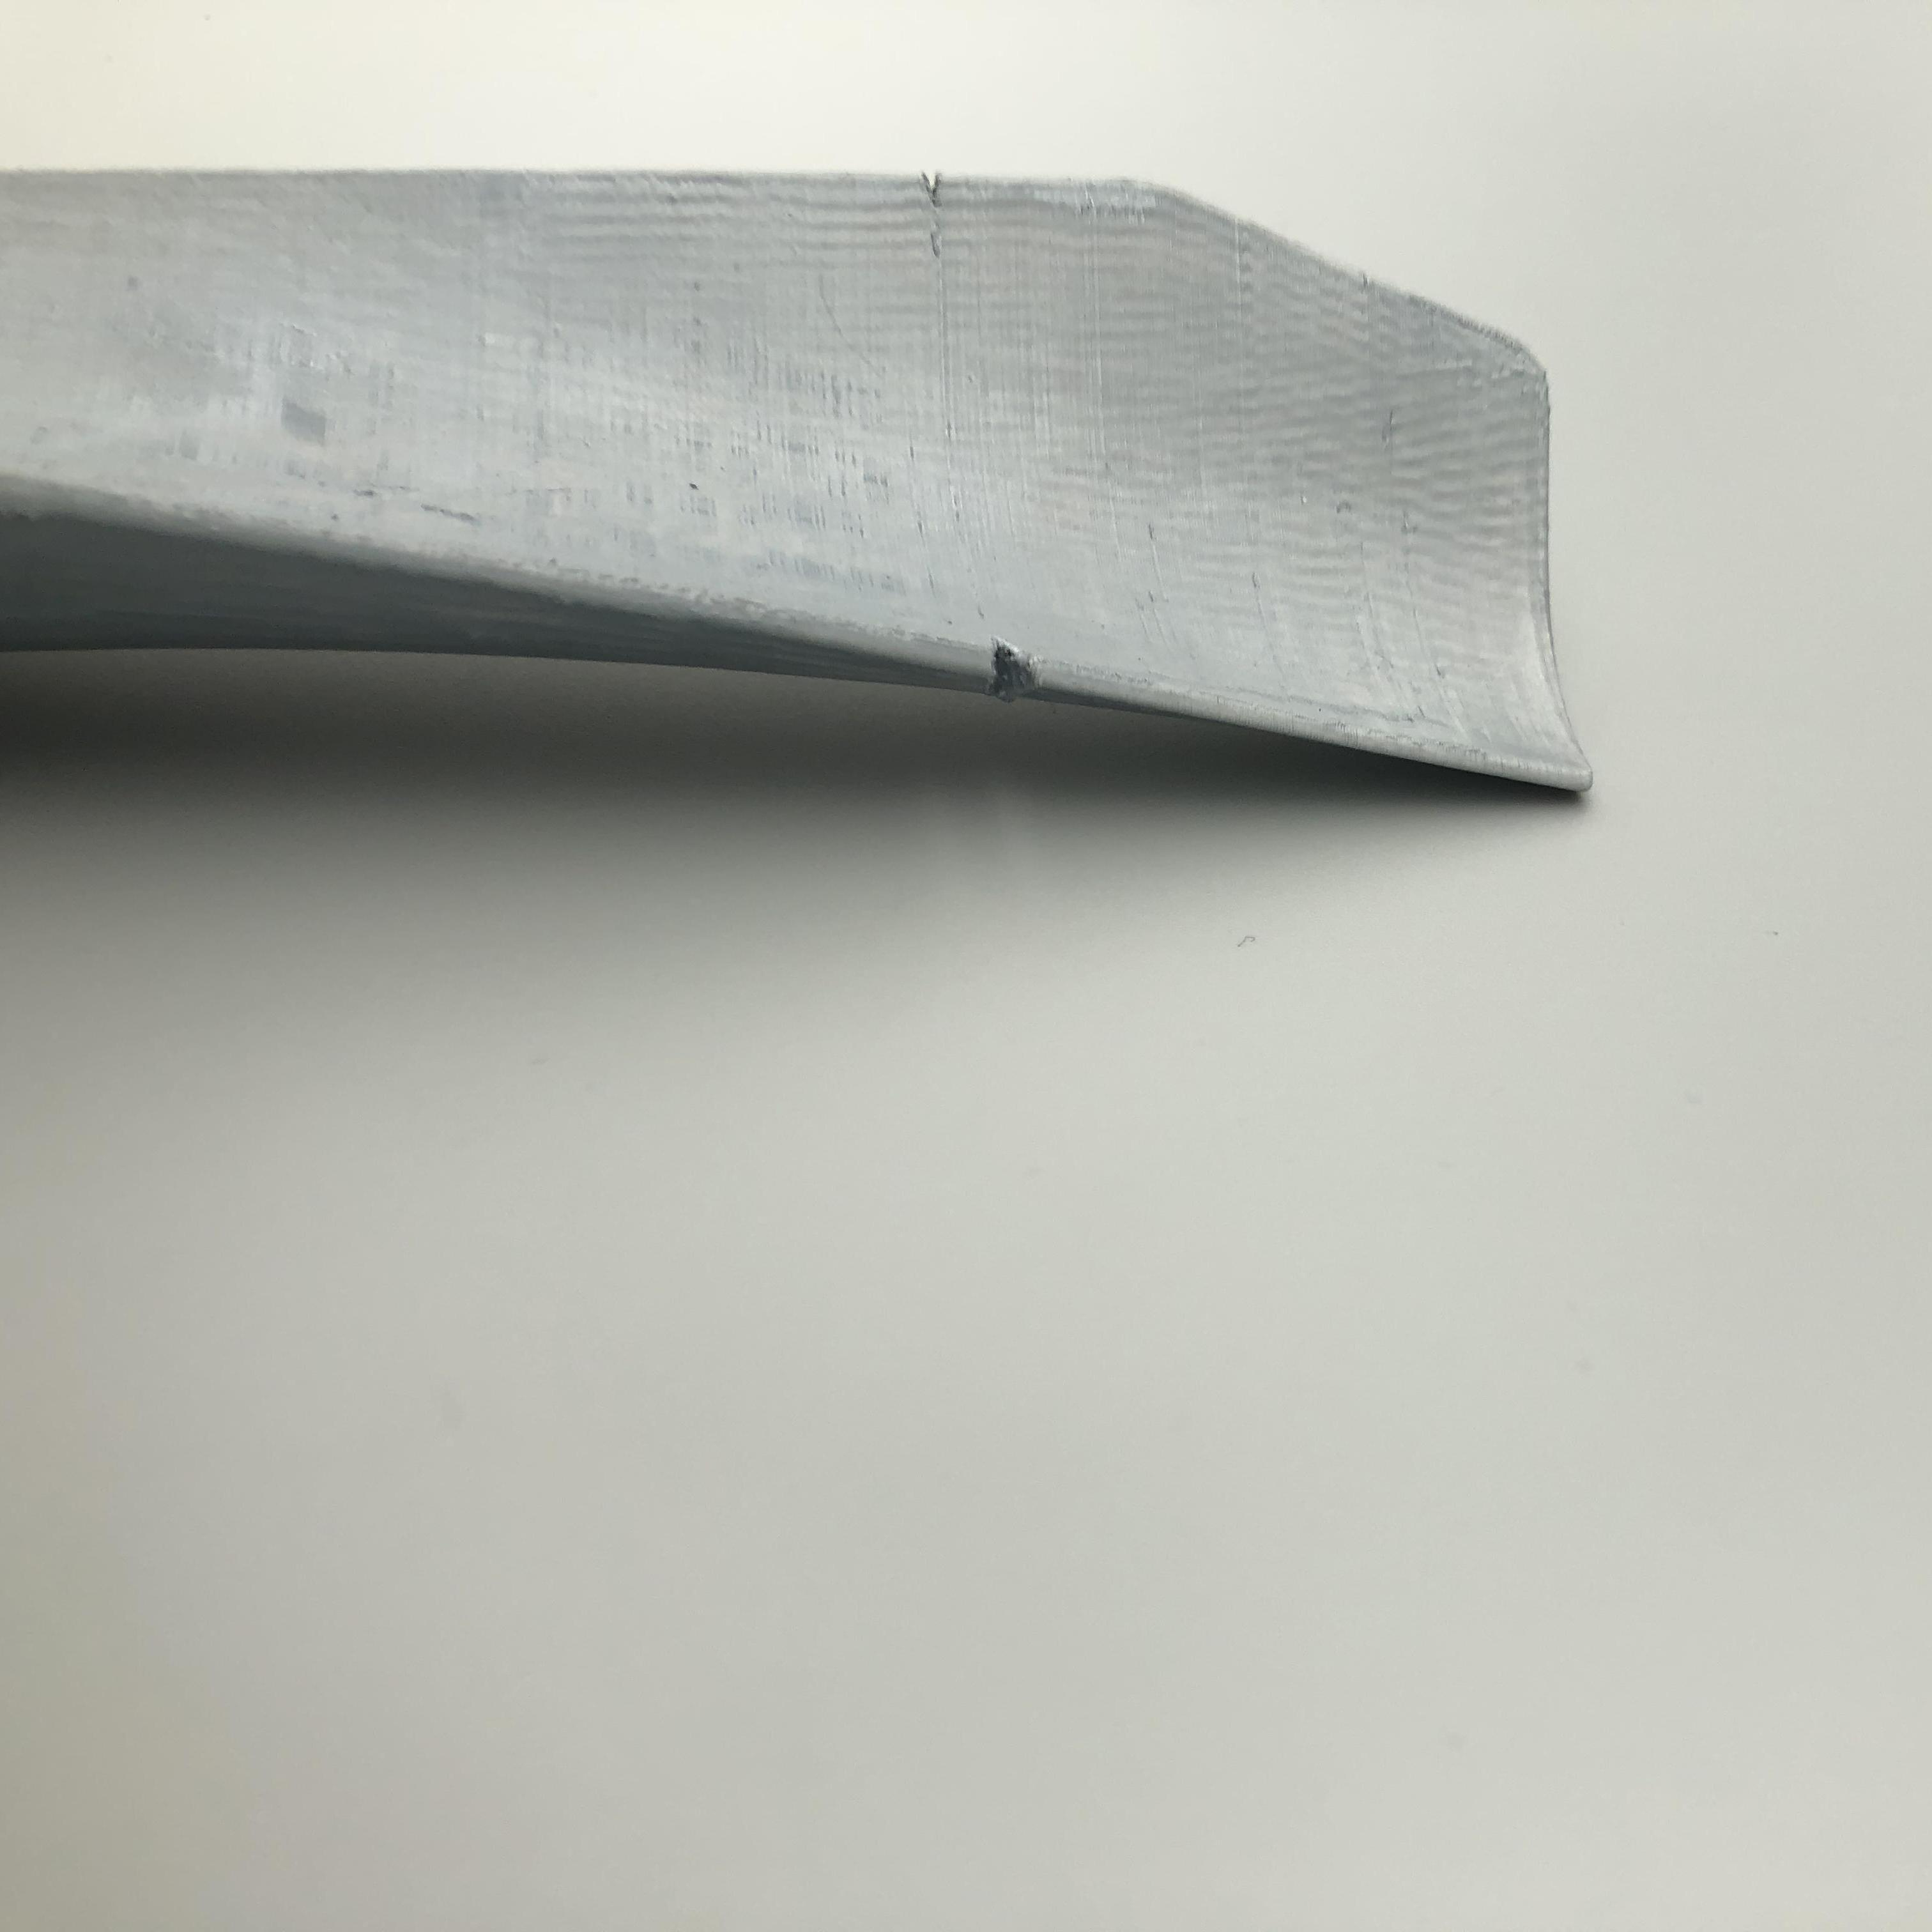groove: (980, 626, 1070, 697), (913, 170, 964, 202)
